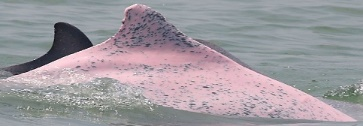fin: (15, 1, 355, 122)
